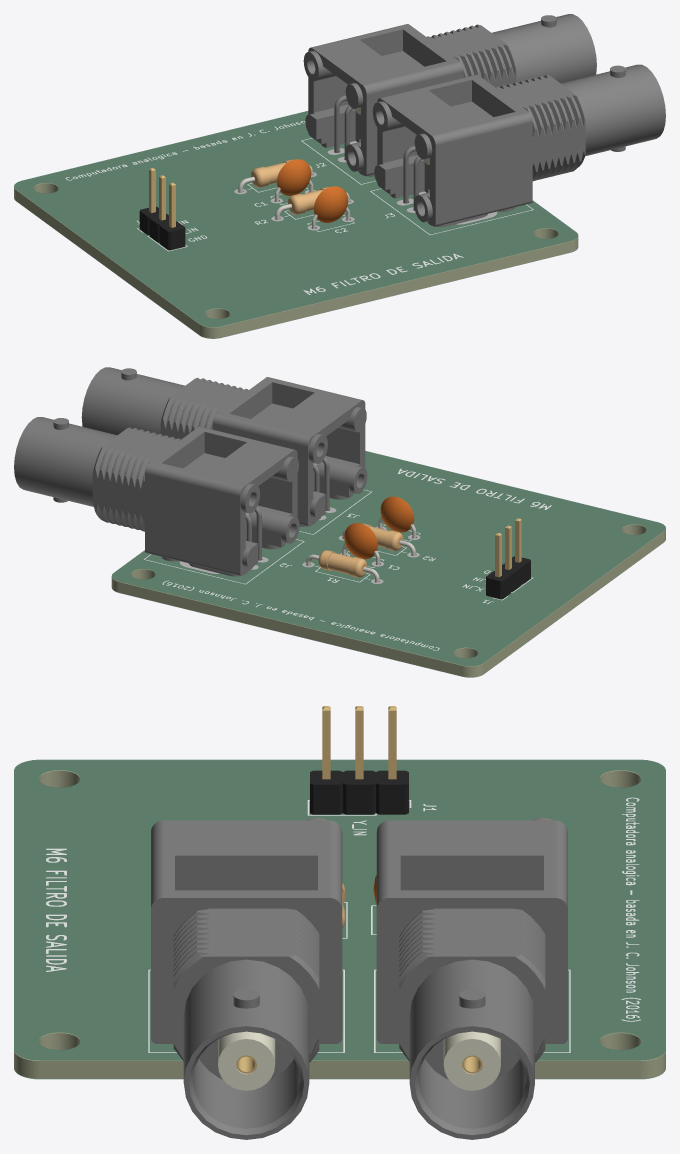
File: placa.glb
3 renders of one model, top to bottom at view 1: azimuth 30°, elevation 25°; view 2: azimuth 150°, elevation 25°; view 3: azimuth 270°, elevation 25°, orthographic. The views are drawn at different scales.
Parts seen in each view (by area): view 1: =>[0:1:1:14], =>[0:1:1:12], =>[0:1:1:5] (×2), =>[0:1:1:7] (×2), =>[0:1:1:9], =>[0:1:1:11], =>[0:1:1:3] (×2), =>[0:1:1:10], =>[0:1:1:13]; view 2: =>[0:1:1:14], =>[0:1:1:5] (×2), =>[0:1:1:12], =>[0:1:1:7] (×2), =>[0:1:1:9], =>[0:1:1:11], =>[0:1:1:3] (×2), =>[0:1:1:10], =>[0:1:1:13]; view 3: =>[0:1:1:5] (×2), =>[0:1:1:14], =>[0:1:1:12], =>[0:1:1:9], =>[0:1:1:11].
Part boxes in pixels (x1,y1,x2,y2): =>[0:1:1:14]: (14,112,578,338); =>[0:1:1:12]: (14,111,578,327); =>[0:1:1:5] (×2): (303,14,665,226); =>[0:1:1:7] (×2): (275,159,350,228); =>[0:1:1:9]: (139,168,185,250); =>[0:1:1:11]: (65,121,533,294); =>[0:1:1:3] (×2): (238,159,349,219); =>[0:1:1:10]: (234,141,497,230); =>[0:1:1:13]: (14,199,577,338); =>[0:1:1:14]: (111,452,665,677); =>[0:1:1:5] (×2): (14,367,367,576); =>[0:1:1:12]: (111,451,665,666); =>[0:1:1:7] (×2): (342,496,416,565); =>[0:1:1:9]: (486,518,530,599); =>[0:1:1:11]: (144,468,551,650); =>[0:1:1:3] (×2): (306,523,415,582); =>[0:1:1:10]: (179,507,420,583); =>[0:1:1:13]: (112,540,665,677); =>[0:1:1:5] (×2): (151,817,567,1139); =>[0:1:1:14]: (14,761,665,1078); =>[0:1:1:12]: (14,759,665,1060); =>[0:1:1:9]: (310,706,408,814); =>[0:1:1:11]: (46,797,640,1052).
Bounding box in the file's own units: 0.0741 × 0.0172 × 0.0501.
